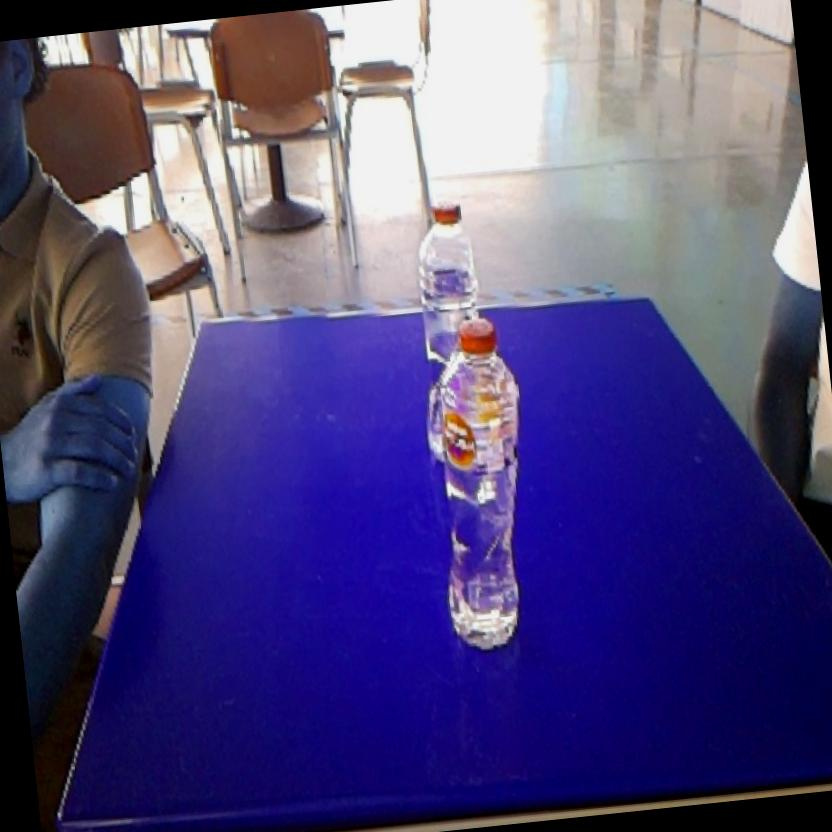good: (414, 310, 556, 666)
no_label: (404, 184, 490, 320)
